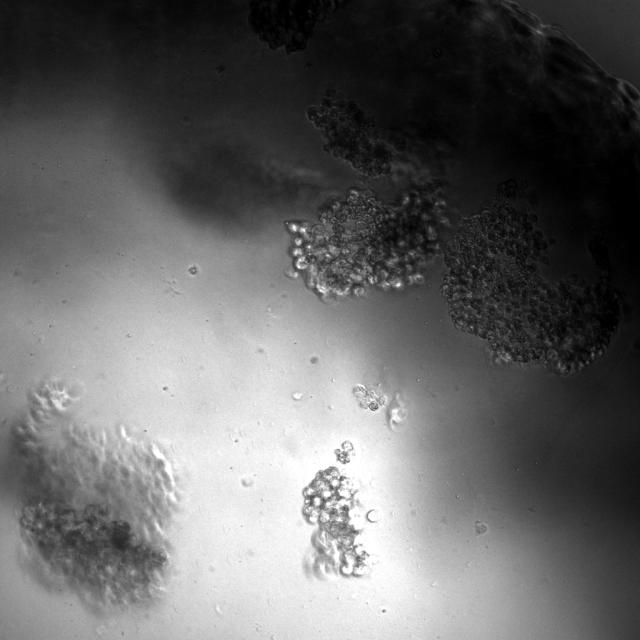organoid: (14, 381, 179, 607), (441, 180, 618, 374), (287, 187, 448, 299), (302, 467, 379, 579), (307, 90, 392, 177), (352, 384, 386, 411), (334, 441, 354, 463)
